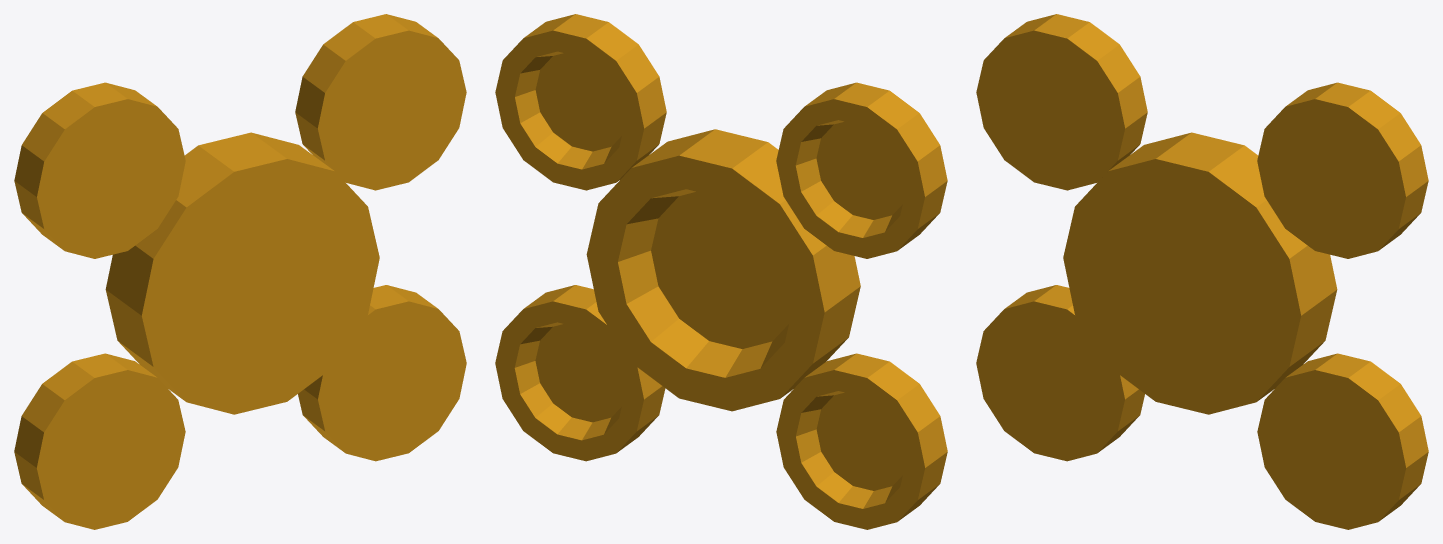
The model's file is Dropship_04_Thruster_Joints_Yellow.fbx.
3 renders of one model, left to right at view 1: azimuth 30°, elevation 25°; view 2: azimuth 150°, elevation 25°; view 3: azimuth 330°, elevation 25°, orthographic.
Parts seen in each view (by area): view 1: Dropship_04_Thruster_Joints_Yellow; view 2: Dropship_04_Thruster_Joints_Yellow; view 3: Dropship_04_Thruster_Joints_Yellow.
Part boxes in pixels (x1,y1,x2,y2): Dropship_04_Thruster_Joints_Yellow: (14,14,466,529); Dropship_04_Thruster_Joints_Yellow: (495,14,947,529); Dropship_04_Thruster_Joints_Yellow: (976,14,1428,529).
Bounding box in the file's own units: 289 × 271 × 42.
1 material, 1 textured.
